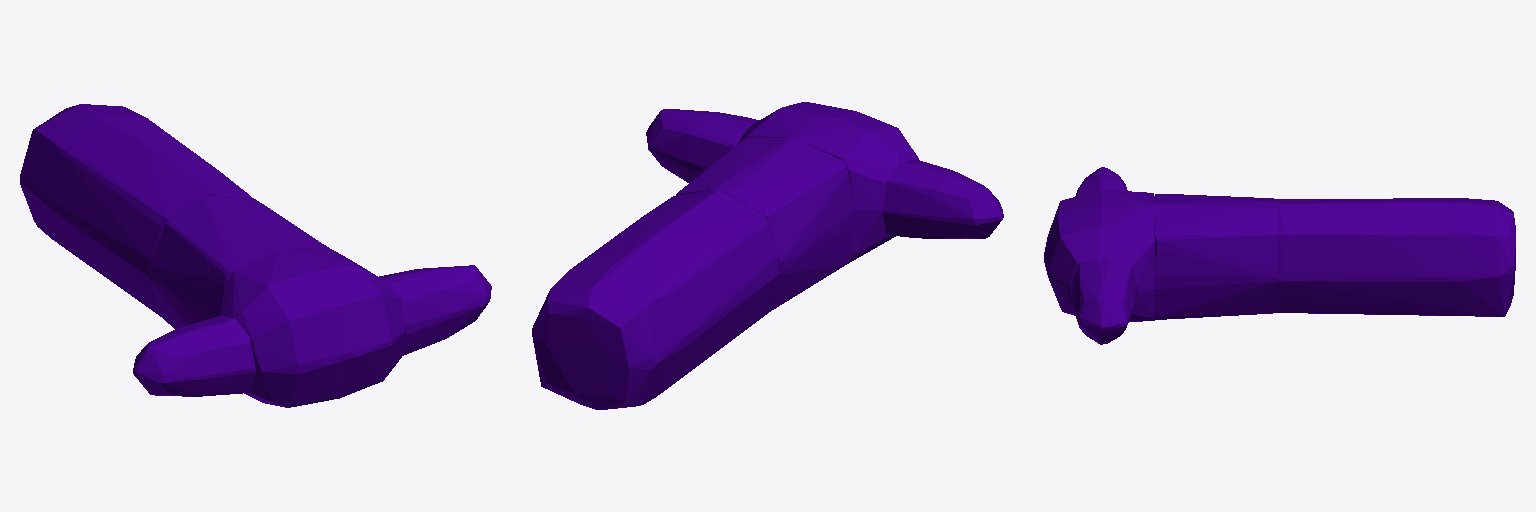
robot.urdf — blob576:
<robot name="blob576">
  <link name="random_obj_576">
    <contact>
      <lateral_friction value="1.0"/>
      <rolling_friction value="0.0"/>
      <inertia_scaling value="3.0"/>
      <contact_cfm value="0.0"/>
      <contact_erp value="1.0"/>
    </contact>
    <inertial>
      <origin rpy="0 0 0" xyz="0 0 0"/>
      <mass value="0.1"/>
      <inertia ixx="1" ixy="0" ixz="0" iyy="1" iyz="0" izz="0"/>
    </inertial>
    <visual>
      <origin rpy="0 0 0" xyz="0 0 0"/>
      <geometry>
        <mesh filename="576.obj" scale="0.015 0.015 0.015"/>
      </geometry>
      <material name="blockmat">
        <color rgba="0.33 0.03 0.62 1"/>
      </material>
    </visual>
    <collision>
      <origin rpy="0 0 0" xyz="0 0 0"/>
      <geometry>
        <mesh filename="576.obj" scale="0.015 0.015 0.015"/>
      </geometry>
    </collision>
  </link>
</robot>

--- Render facts (derived) ---
Views: 3 orthographic renders of the robot side by side, from view 1: azimuth 30°, elevation 25°; view 2: azimuth 150°, elevation 25°; view 3: azimuth 270°, elevation 25°.
Robot: blob576 — 1 links, 0 joints (none); root link random_obj_576; default pose: all joints at 0.
Links seen in each view (by area): view 1: random_obj_576; view 2: random_obj_576; view 3: random_obj_576.
Link boxes in pixels (x1,y1,x2,y2): random_obj_576: [20, 104, 491, 407]; random_obj_576: [532, 102, 1003, 409]; random_obj_576: [1044, 167, 1515, 344].
Size in the robot's own frame: 0.0891 by 0.1206 by 0.0311 metres.
1 mesh visuals loaded from 1 distinct referenced files (1 OBJ).